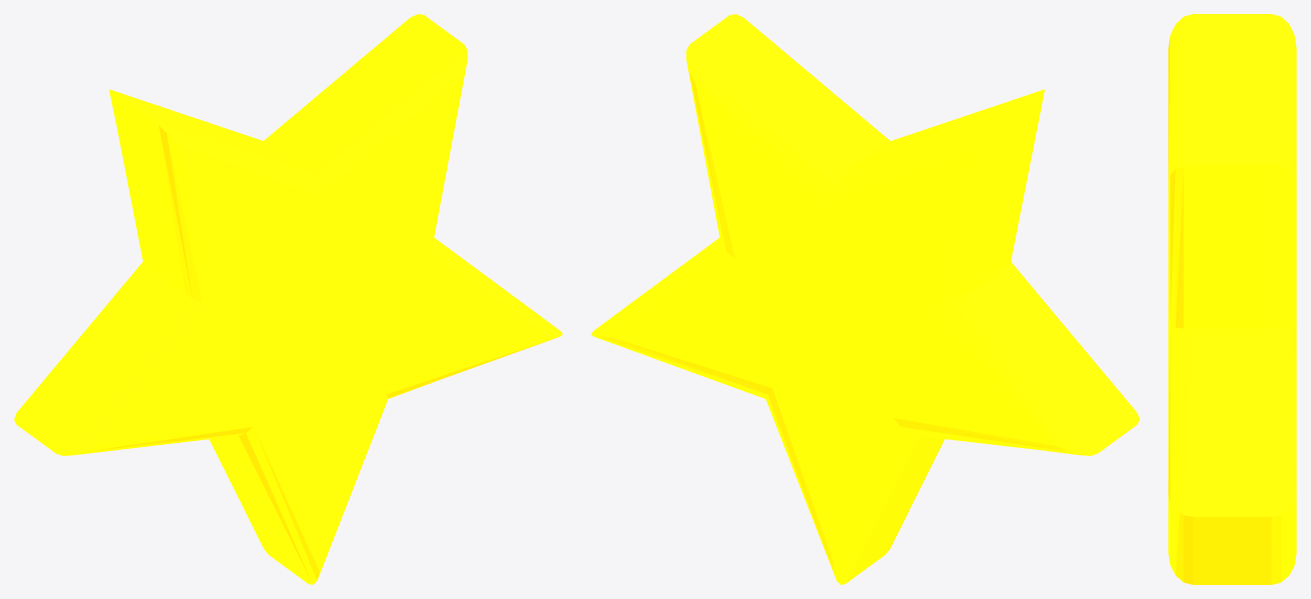
Rendered from star.glb.
3 views of the same model, side by side, from view 1: azimuth 30°, elevation 25°; view 2: azimuth 150°, elevation 25°; view 3: azimuth 270°, elevation 25° (orthographic).
Parts seen in each view (by area): view 1: Star; view 2: Star; view 3: Star.
Boxes of the visible parts, x1,y1,x2,y2 form: Star: (14,14,562,584); Star: (591,14,1139,584); Star: (1168,14,1296,584).
Bounding box in the file's own units: 1.61 × 1.54 × 0.36.
